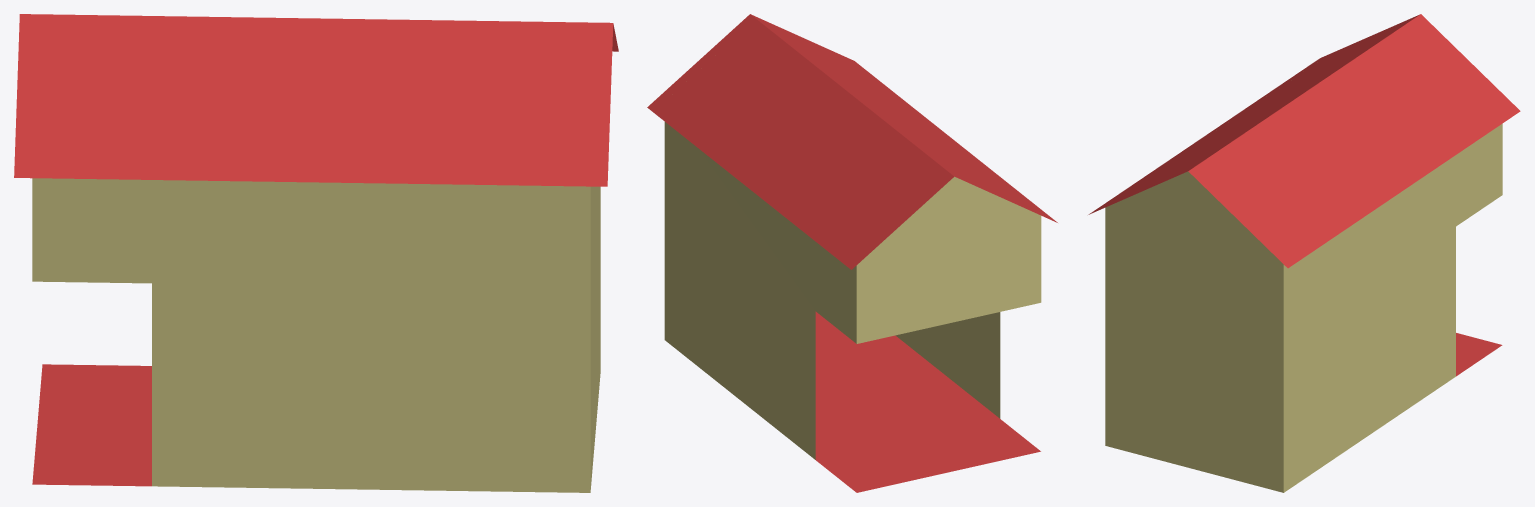
3 views of the same model, side by side, from view 1: azimuth 30°, elevation 25°; view 2: azimuth 150°, elevation 25°; view 3: azimuth 270°, elevation 25° (orthographic). The views are drawn at different scales.
Size of the model in its own units: 19 by 16.55 by 12.76.
